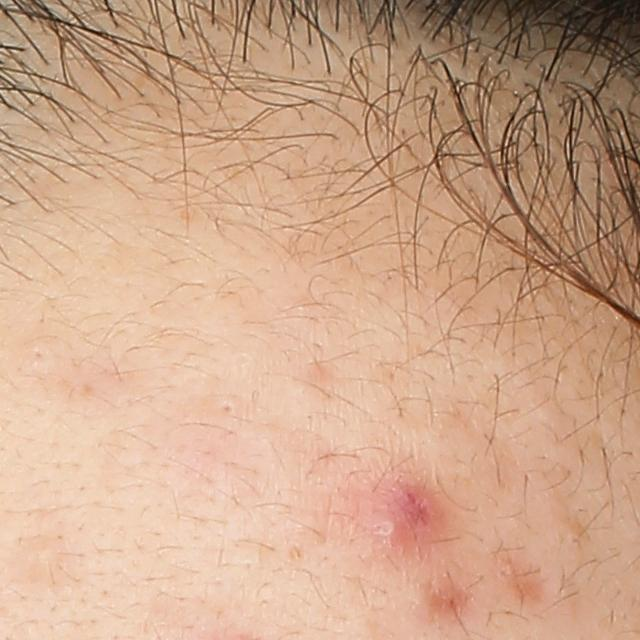comedo: (218, 393, 239, 415), (29, 344, 50, 364)
papule: (355, 480, 439, 558)
